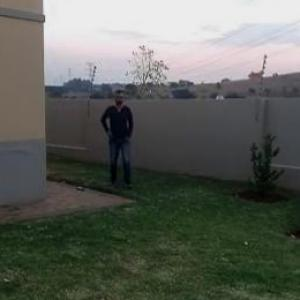follow: (99, 86, 135, 192)
